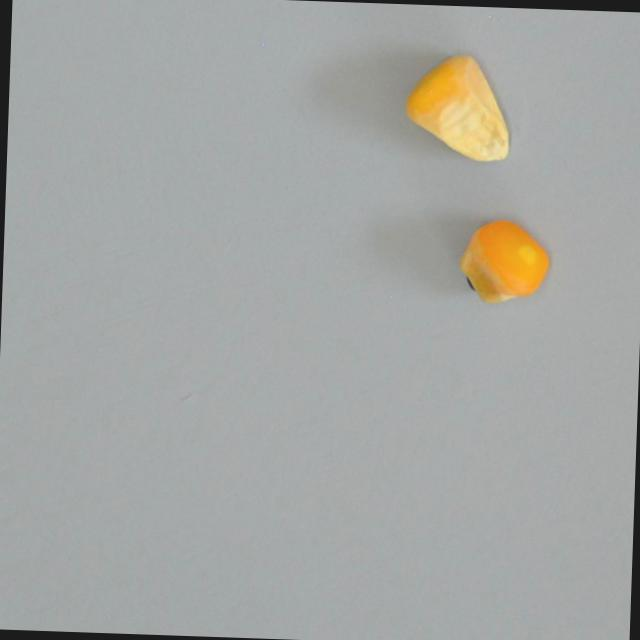entero: (396, 48, 515, 162)
punto_negro: (454, 215, 551, 307)
